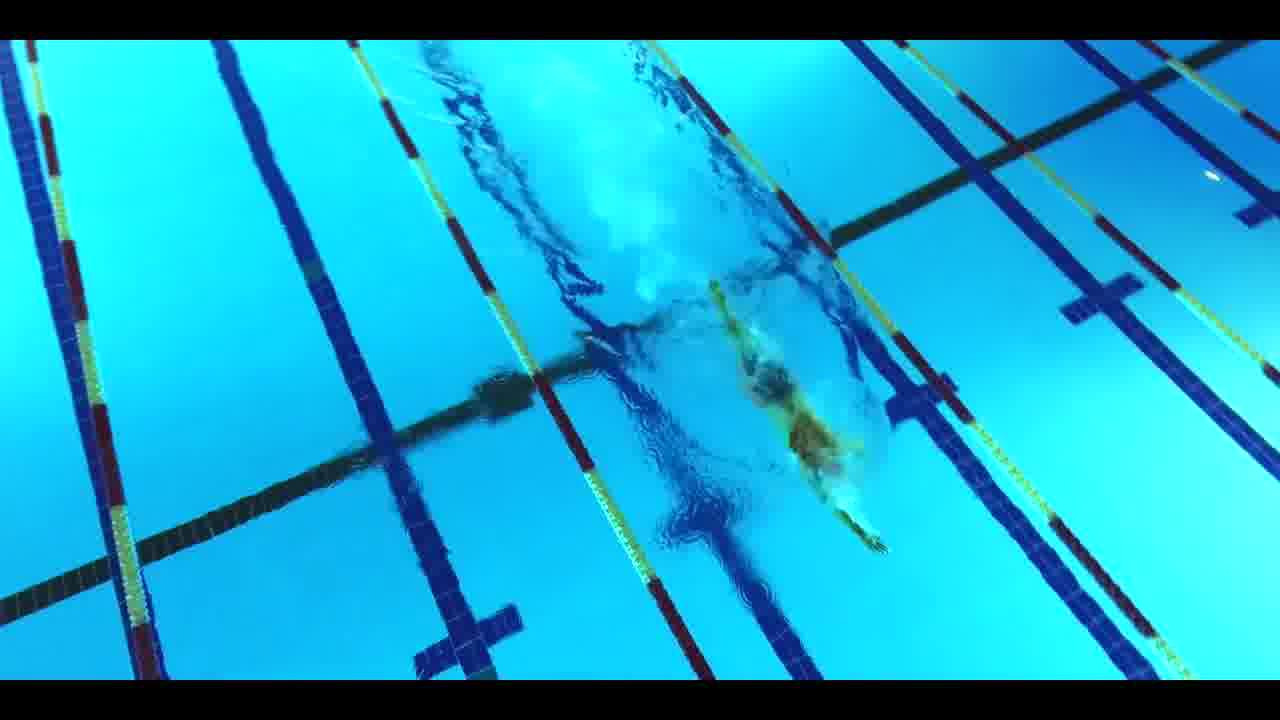human: (674, 284, 879, 541)
